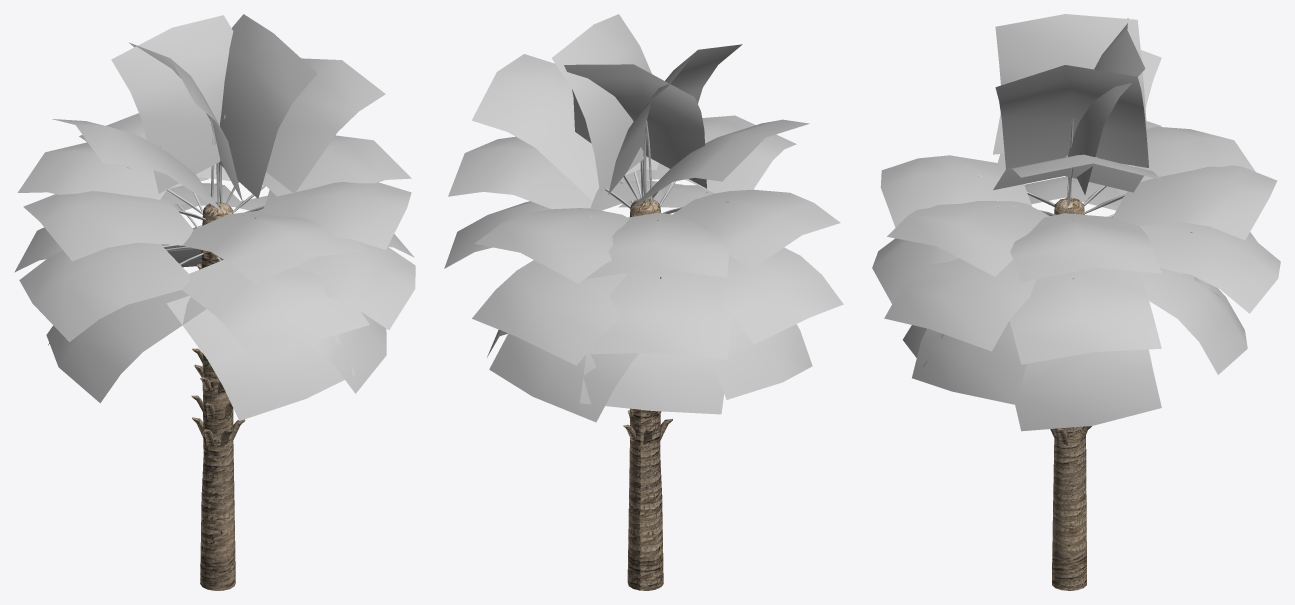
The model's file is palm5 version2.dae.
3 renders of one model, left to right at view 1: azimuth 30°, elevation 25°; view 2: azimuth 150°, elevation 25°; view 3: azimuth 270°, elevation 25°, orthographic.
Visible parts, largest first — view 1: meshU3D; view 2: meshU3D; view 3: meshU3D.
Boxes of the visible parts, x1,y1,x2,y2 form: meshU3D: [14, 14, 415, 590]; meshU3D: [444, 14, 843, 590]; meshU3D: [872, 14, 1280, 590].
Size of the model in its own units: 245 by 362 by 246.
